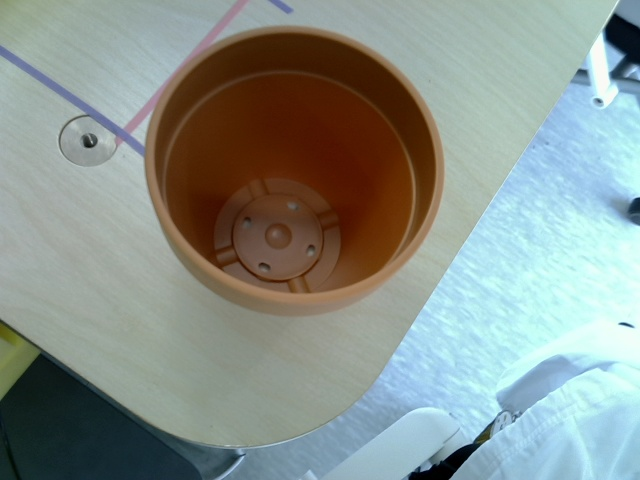화분: (144, 27, 448, 316)
